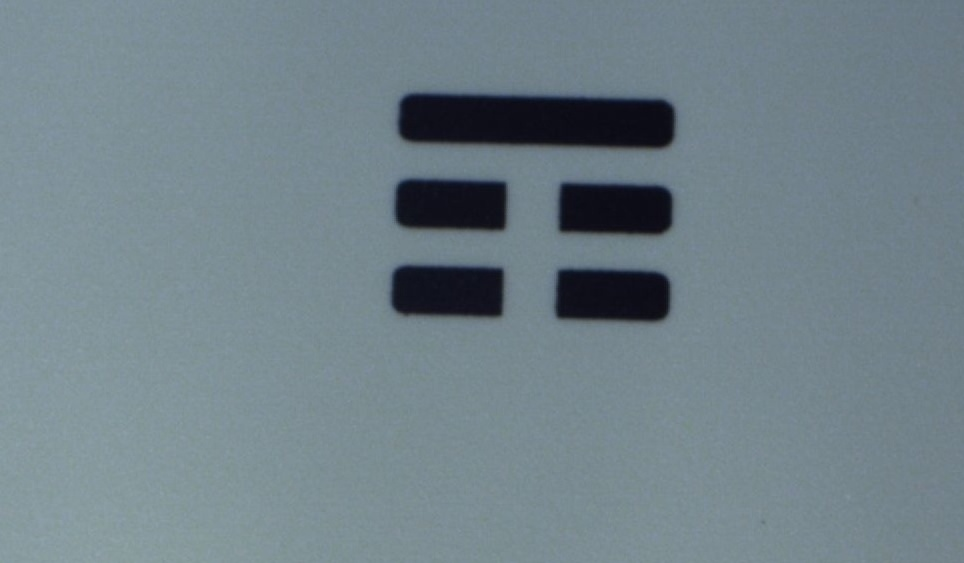BV_F6600PTIM: (383, 79, 692, 330)
